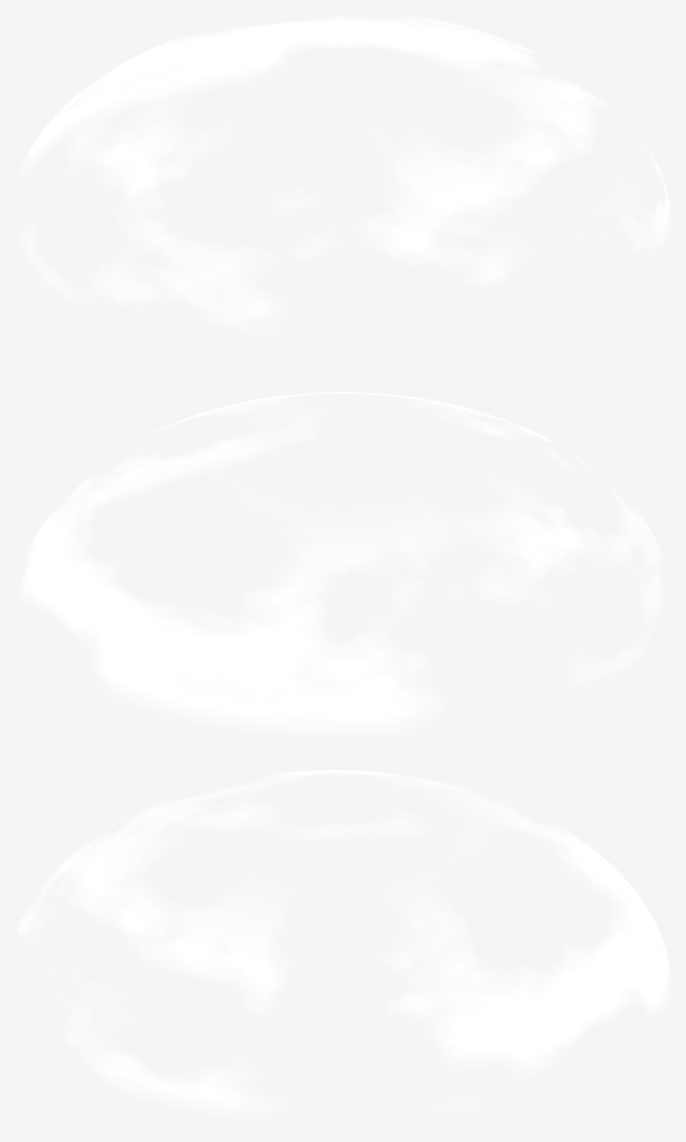
Rendered from clouds.glb.
The picture shows the model from 3 angles, top to bottom: view 1: azimuth 30°, elevation 25°; view 2: azimuth 150°, elevation 25°; view 3: azimuth 270°, elevation 25°; orthographic projection. The views are drawn at different scales.
Parts seen in each view (by area): view 1: clouds; view 2: clouds; view 3: clouds.
Boxes of the visible parts, box(x1,y1,x2,y2) form: clouds: box(20, 16, 670, 335); clouds: box(16, 392, 663, 737); clouds: box(17, 770, 670, 1117).
Size of the model in its own units: 3190 by 804 by 3116.
1 material, 1 textured.
